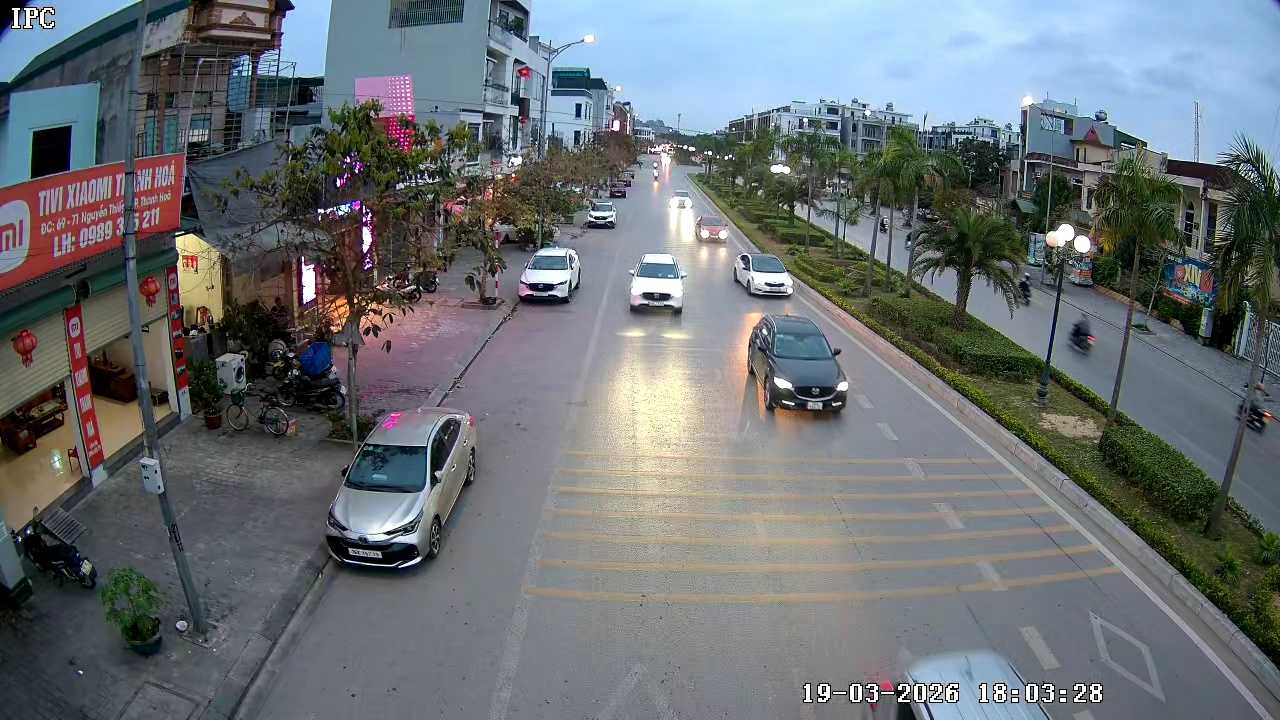car: (324, 407, 478, 571), (746, 314, 849, 415), (626, 250, 688, 317), (517, 246, 581, 304), (733, 251, 794, 299), (694, 211, 729, 244), (584, 198, 619, 230), (667, 187, 698, 213)
motorbike: (1235, 381, 1272, 434)
